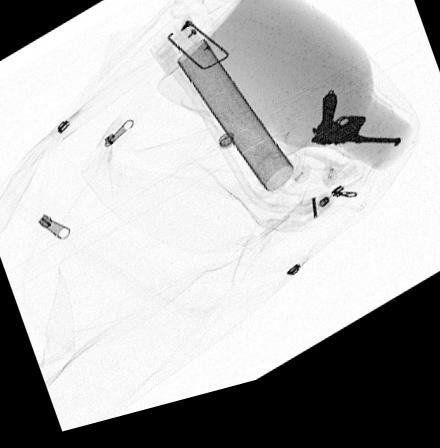Gun: (310, 109, 400, 169)
